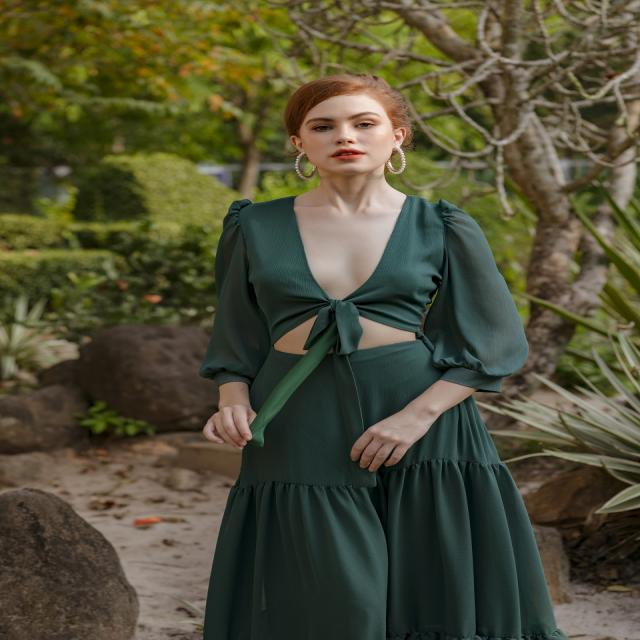clothes: (198, 195, 571, 640)
